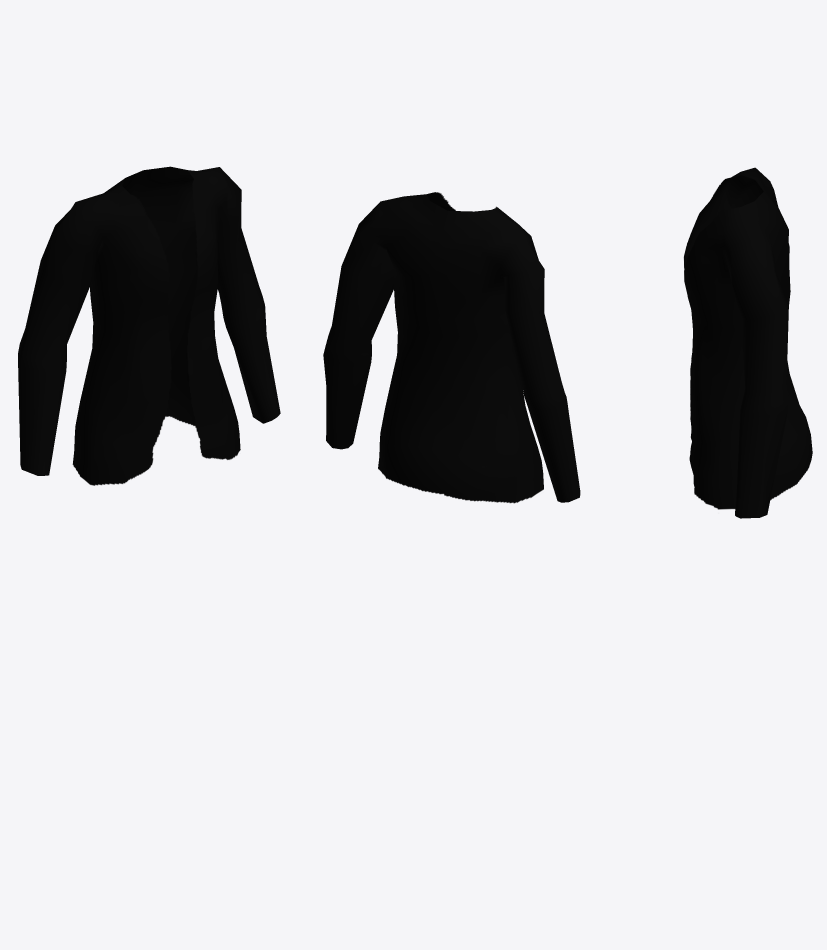
Rendered from Casaco.glb.
The picture shows the model from 3 angles, left to right: view 1: azimuth 30°, elevation 25°; view 2: azimuth 150°, elevation 25°; view 3: azimuth 270°, elevation 25°; orthographic projection.
Parts seen in each view (by area): view 1: Personagem (CASACO); view 2: Personagem (CASACO); view 3: Personagem (CASACO).
Boxes of the visible parts, <box> form: Personagem (CASACO): <box>18,166,280,485</box>; Personagem (CASACO): <box>323,192,580,503</box>; Personagem (CASACO): <box>683,167,812,518</box>.
Size of the model in its own units: 0.5075 by 1.57 by 0.3015.
1 material, 1 textured.
